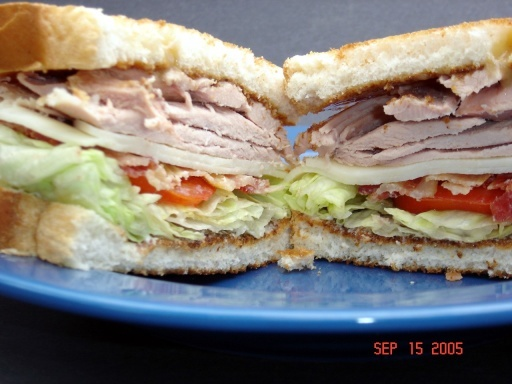background: (0, 1, 410, 168)
